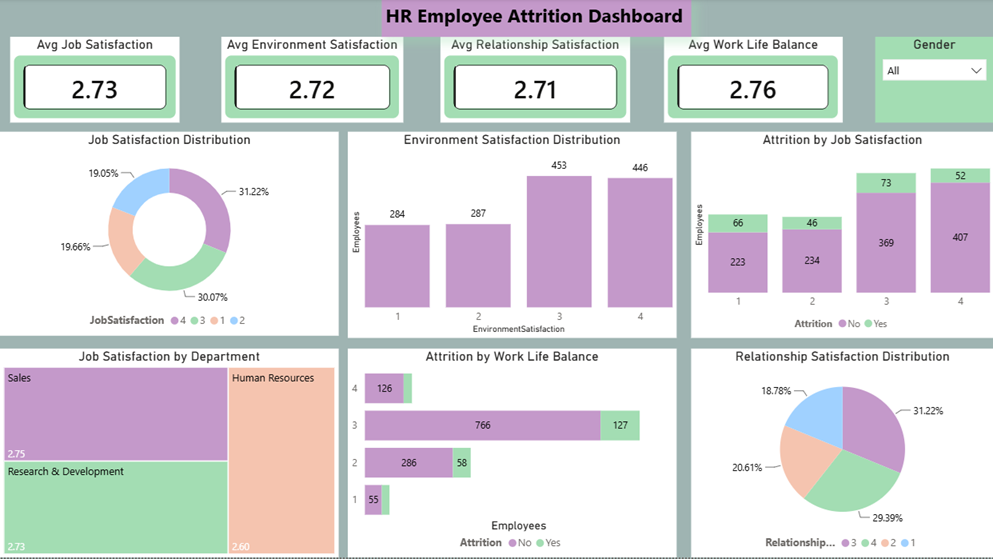

This screenshot's page, from the dashboard's own definition file:
{"tool":"powerbi","page":{"name":"Satisfaction_Engagement","canvas":[1280,720],"ordinal":3},"visuals":[{"type":"cardVisual","title":"Avg Job Satisfaction","fields":{"Data":["Employees.Avg_Job_Satisfaction"]},"box":[13.1,49.4,218.1,110.5],"z":0},{"type":"cardVisual","title":"Avg Environment Satisfaction","fields":{"Data":["Employees.Avg_Env_Satisfaction"]},"box":[285,49.4,234.1,110.5],"z":1000},{"type":"cardVisual","title":"Avg Relationship Satisfaction","fields":{"Data":["Employees.Avg_Relationship_Satis"]},"box":[567.1,49.4,244.3,110.5],"z":2000},{"type":"cardVisual","title":"Avg Work Life Balance","fields":{"Data":["Employees.Avg_Work_Life_Bal"]},"box":[855,49.4,229.8,110.5],"z":3000},{"type":"donutChart","title":"Job Satisfaction Distribution","fields":{"Y":["Employees.Total_Employees"],"Category":["Employees.JobSatisfaction"]},"box":[0,171,436.2,262.3],"z":4000},{"type":"columnChart","title":"Environment Satisfaction Distribution","fields":{"Category":["Employees.EnvironmentSatisfaction"],"Y":["Employees.Total_Employees"]},"box":[447.8,171,423.2,265.2],"z":5000},{"type":"pieChart","title":"Relationship Satisfaction Distribution","fields":{"Category":["Employees.RelationshipSatisfaction"],"Y":["Employees.Total_Employees"]},"box":[889.9,450.7,389.9,269.6],"z":6000},{"type":"treemap","title":"Job Satisfaction by Department","fields":{"Group":["Employees.Department"],"Values":["Employees.Avg_Job_Satisfaction"]},"box":[0,450.7,436.2,269.6],"z":7000},{"type":"columnChart","title":"Attrition by Job Satisfaction","fields":{"Category":["Employees.JobSatisfaction"],"Series":["Employees.Attrition"],"Y":["Employees.Total_Employees"]},"box":[889.9,171,389.9,265.2],"z":8000},{"type":"barChart","title":"Attrition by Work Life Balance","fields":{"Category":["Employees.WorkLifeBalance"],"Series":["Employees.Attrition"],"Y":["Employees.Total_Employees"]},"box":[447.8,450.7,423.2,269.6],"z":9000},{"type":"textbox","box":[491.3,0,398.6,49.3],"z":10000},{"type":"slicer","title":"Gender","fields":{"Values":["Employees.Gender"]},"box":[1127,49.4,152.7,110.5],"z":11000}]}

Visuals, with their boxes in screenshot pixels (x1, y1, x2, y2), scaled from the page's 1280x720 canvas onto the 994x560 screenshot:
"Avg Job Satisfaction" cardVisual: detection(10, 38, 180, 124)
"Avg Environment Satisfaction" cardVisual: detection(221, 38, 403, 124)
"Avg Relationship Satisfaction" cardVisual: detection(440, 38, 630, 124)
"Avg Work Life Balance" cardVisual: detection(664, 38, 842, 124)
"Job Satisfaction Distribution" donutChart: detection(0, 133, 339, 337)
"Environment Satisfaction Distribution" columnChart: detection(348, 133, 676, 339)
"Relationship Satisfaction Distribution" pieChart: detection(691, 351, 993, 559)
"Job Satisfaction by Department" treemap: detection(0, 351, 339, 559)
"Attrition by Job Satisfaction" columnChart: detection(691, 133, 993, 339)
"Attrition by Work Life Balance" barChart: detection(348, 351, 676, 559)
textbox: detection(382, 0, 691, 38)
"Gender" slicer: detection(875, 38, 993, 124)
